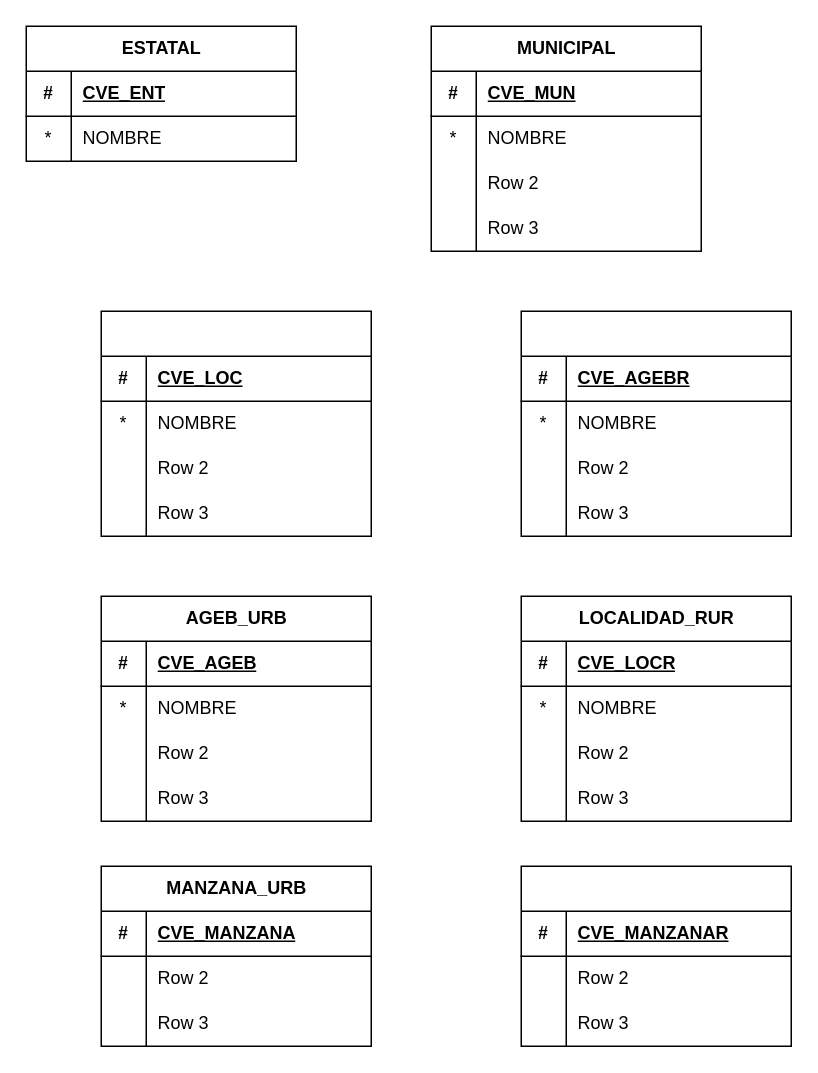
The diagram is 818 pixels wide and 1073 high, and some of its shapes have lost their labels. The shapes that lost their labels are listed below. From the top down, each one's box as (x1, y1, x2, y2) in pixels, then its label:
(100, 310, 371, 536): LOCALIDAD_URB
(520, 310, 791, 536): AGEB_RUR
(520, 865, 791, 1046): MANZANA_RUR
